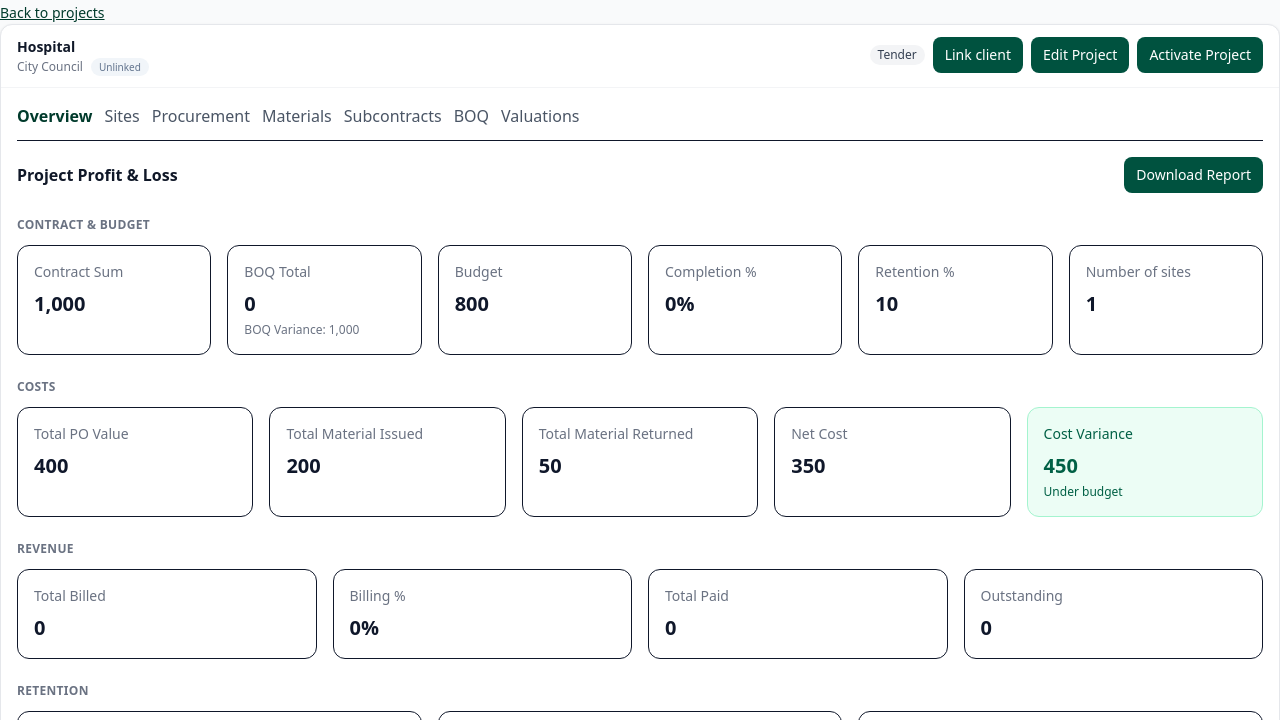
Test case: project detail procurement sites (P2-4) › shows the empty state for a project without FK-linked sites
Expected: the heading "Hospital" is shown, [17, 37, 75, 56]
What coordinates should you click on to do the following:
click the tab "Sites"
I would click on:
 (122, 116)
Its box is [104, 104, 140, 128].
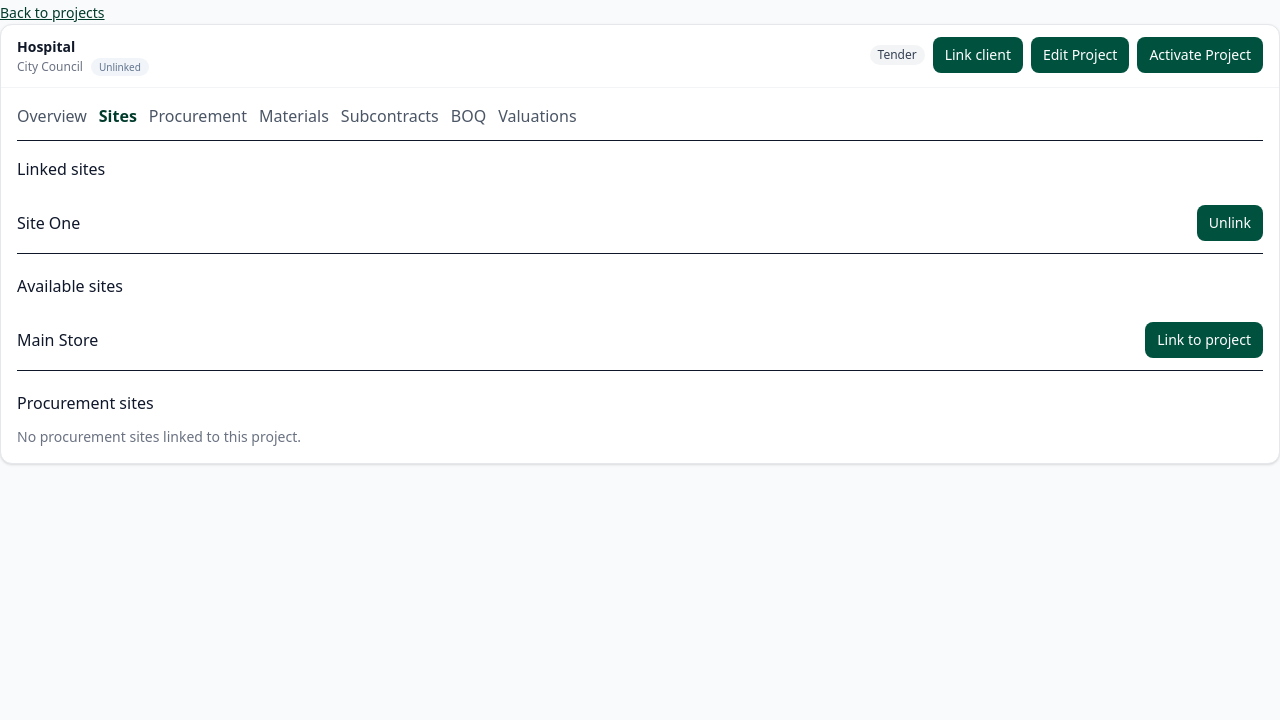
Expected: the text "No procurement sites linked to this project." is shown, [17, 427, 301, 446]
